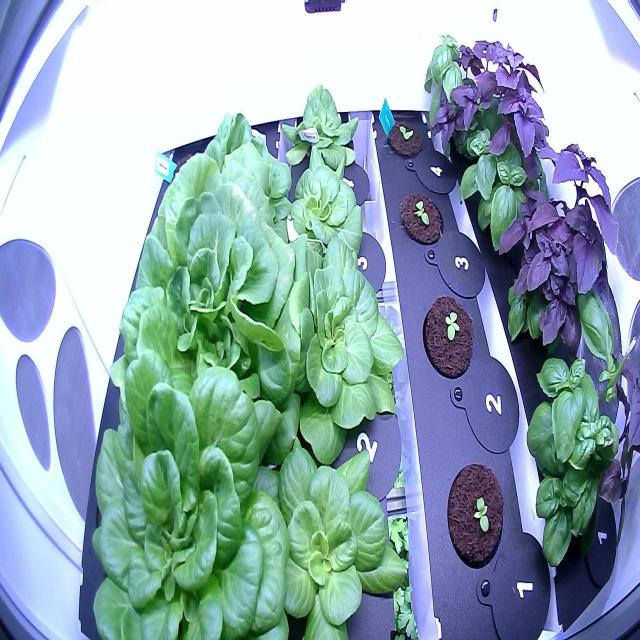Ready: (82, 340, 305, 639), (96, 146, 314, 442)
germination: (395, 184, 447, 252), (384, 110, 427, 165)
young: (265, 224, 413, 467), (254, 426, 414, 640), (163, 109, 296, 243), (280, 143, 378, 272), (278, 72, 371, 182), (440, 455, 509, 577), (417, 280, 477, 388)
